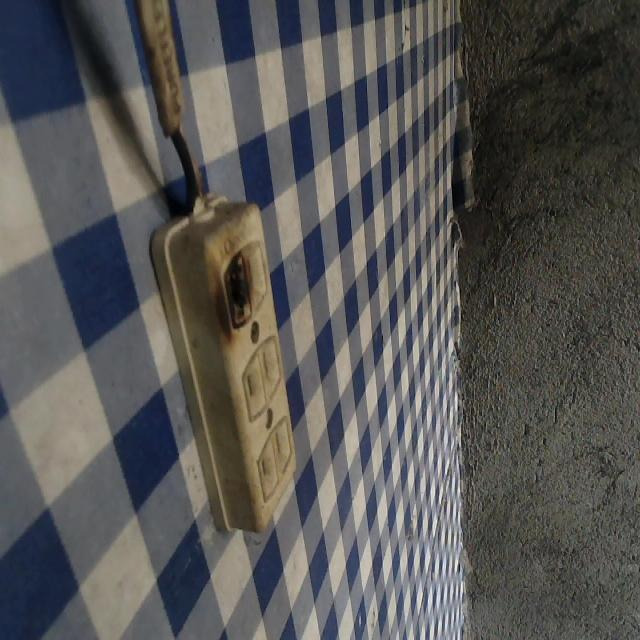-: (214, 235, 261, 337)
